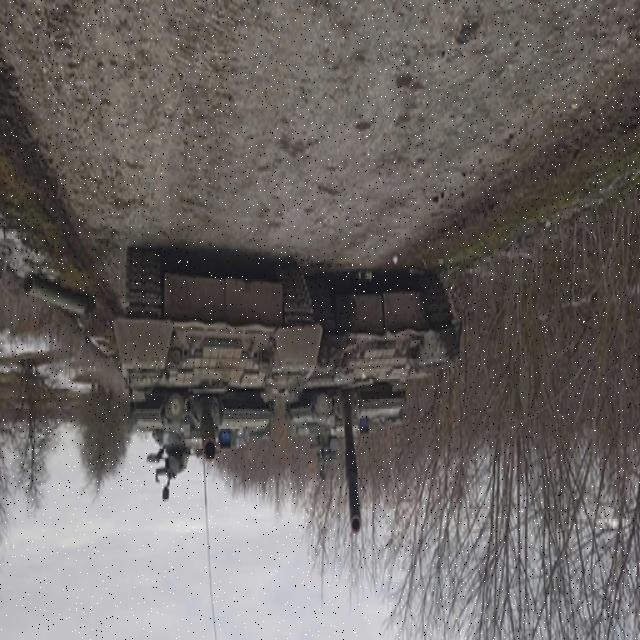TANK: (270, 254, 460, 536), (118, 240, 312, 487)
